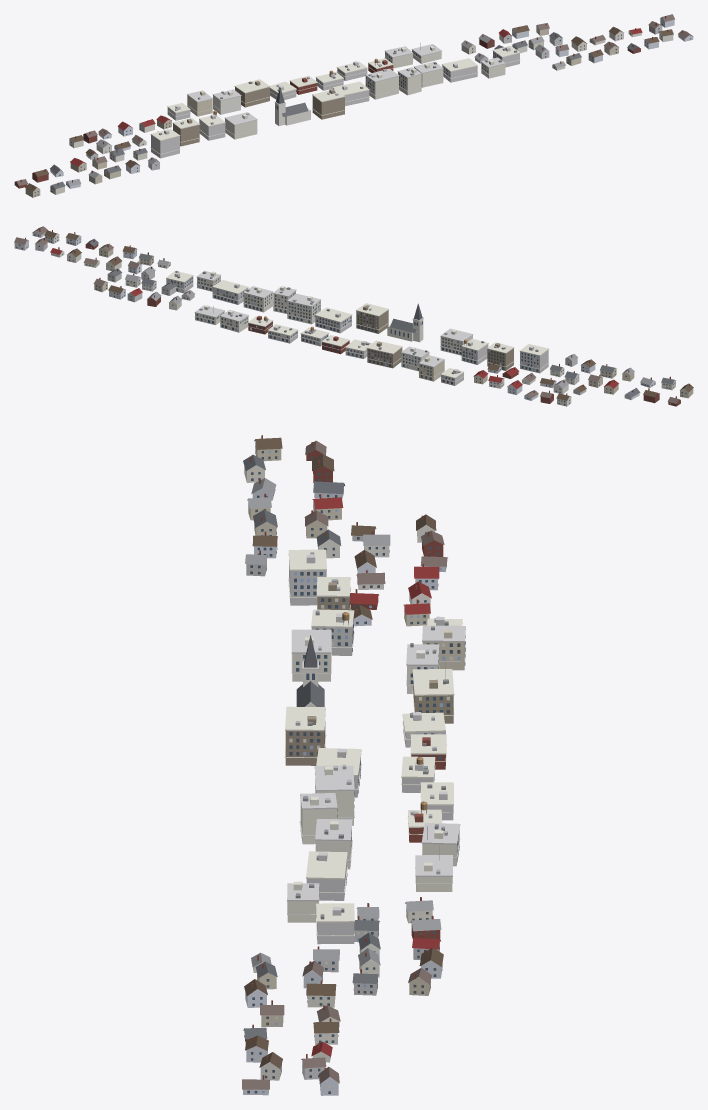
File: WardTownNear.obj
3 views of the same model, one above another, from view 1: azimuth 30°, elevation 25°; view 2: azimuth 150°, elevation 25°; view 3: azimuth 270°, elevation 25° (orthographic). The views are drawn at different scales.
Parts seen in each view (by area): view 1: WardTownNear; view 2: WardTownNear; view 3: WardTownNear.
Boxes of the visible parts, left/top/right/bottom form: WardTownNear: left=14, top=14, right=693, bottom=197; WardTownNear: left=14, top=226, right=693, bottom=406; WardTownNear: left=242, top=435, right=465, bottom=1095.
Bounding box in the file's own units: 648 × 34.5 × 95.19.
1 material, 1 textured.
